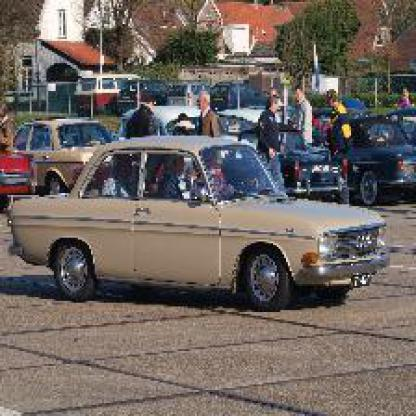not_emergency: (11, 128, 398, 344)
